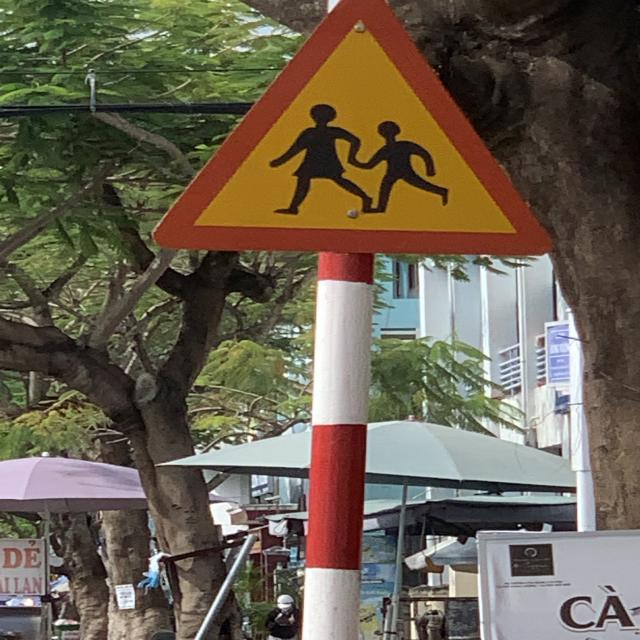Vong_Xuyen: (148, 0, 553, 256)
